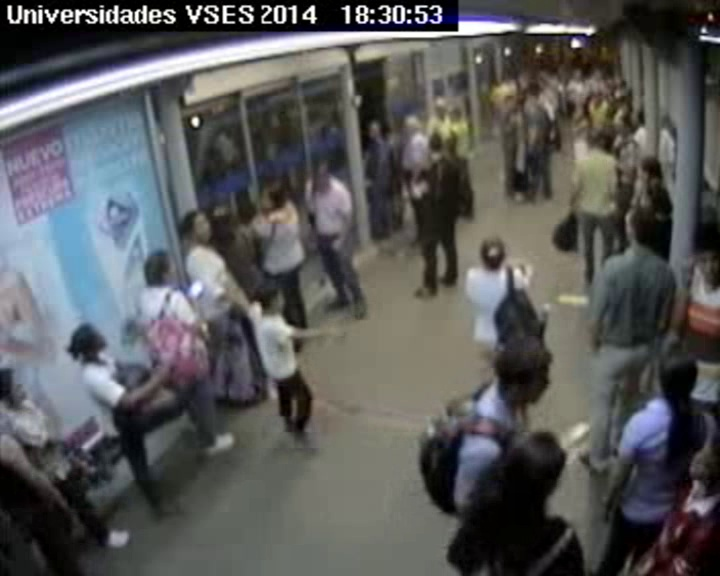person: (504, 431, 570, 503), (495, 338, 553, 402), (681, 232, 720, 278), (660, 351, 700, 395), (68, 324, 107, 363), (624, 209, 661, 247), (144, 252, 179, 289), (2, 369, 31, 406), (479, 237, 511, 270), (182, 210, 211, 242), (256, 285, 284, 316), (260, 184, 286, 211), (311, 161, 334, 187), (639, 159, 662, 183), (645, 178, 666, 202), (597, 126, 618, 149), (401, 114, 420, 134), (368, 120, 387, 140), (431, 102, 447, 120), (428, 134, 443, 152), (448, 107, 463, 124), (618, 120, 633, 135), (389, 114, 403, 130), (524, 95, 538, 109), (529, 82, 542, 97), (555, 64, 568, 78), (590, 67, 602, 80), (636, 112, 649, 124), (504, 96, 516, 109), (571, 69, 583, 80), (573, 54, 585, 65), (548, 66, 558, 78), (625, 94, 635, 106), (587, 96, 597, 108), (576, 106, 586, 117), (509, 71, 519, 81), (489, 80, 498, 89), (619, 80, 628, 89), (598, 90, 606, 98)
